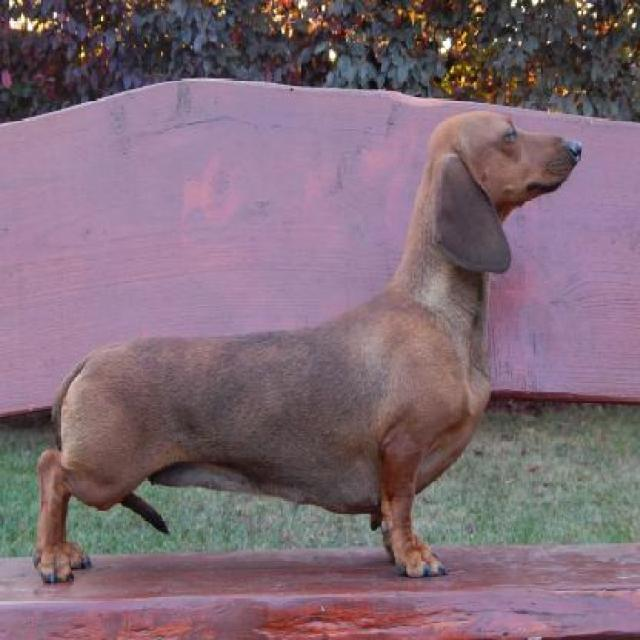Dog: (26, 88, 583, 586)
